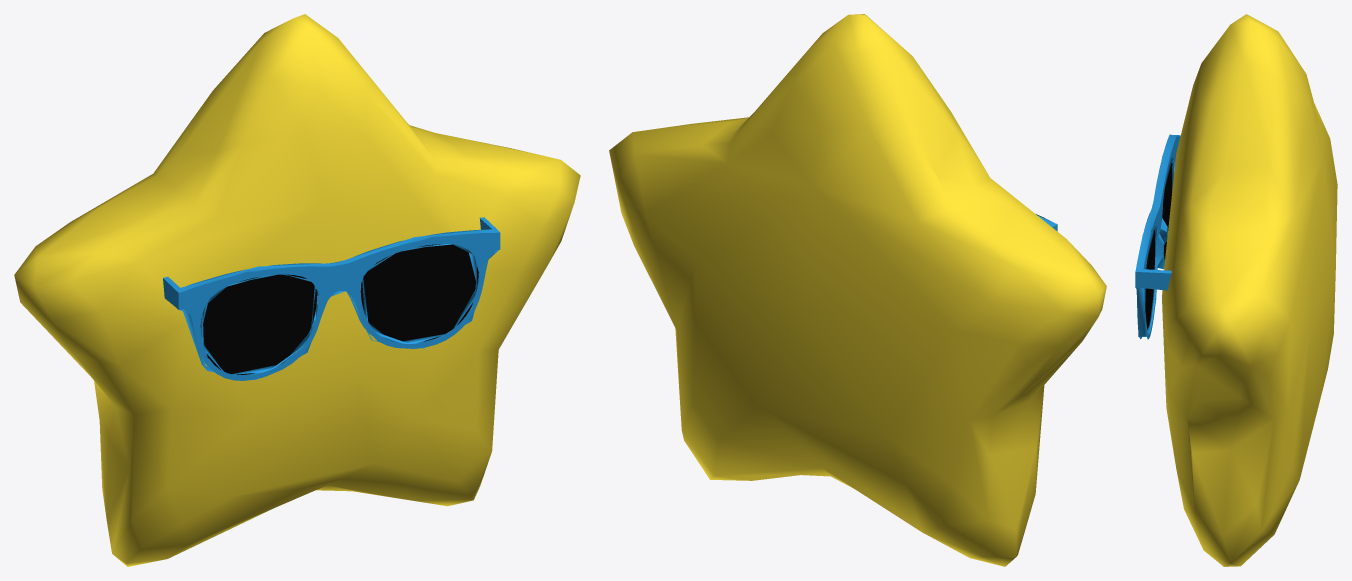
3 renders of one model, left to right at view 1: azimuth 30°, elevation 25°; view 2: azimuth 150°, elevation 25°; view 3: azimuth 270°, elevation 25°, orthographic. The views are drawn at different scales.
Visible parts, largest first — view 1: star_2, star_1, star_0; view 2: star_2; view 3: star_2, star_0, star_1.
Part boxes in pixels (box(x1,y1,x2,y2)): star_2: box(14, 14, 580, 566); star_1: box(200, 244, 478, 374); star_0: box(163, 217, 500, 380); star_2: box(609, 14, 1106, 566); star_2: box(1162, 14, 1337, 566); star_0: box(1135, 134, 1180, 339); star_1: box(1145, 163, 1172, 329).
Size of the model in its own units: 0.2271 by 0.212 by 0.0808.
